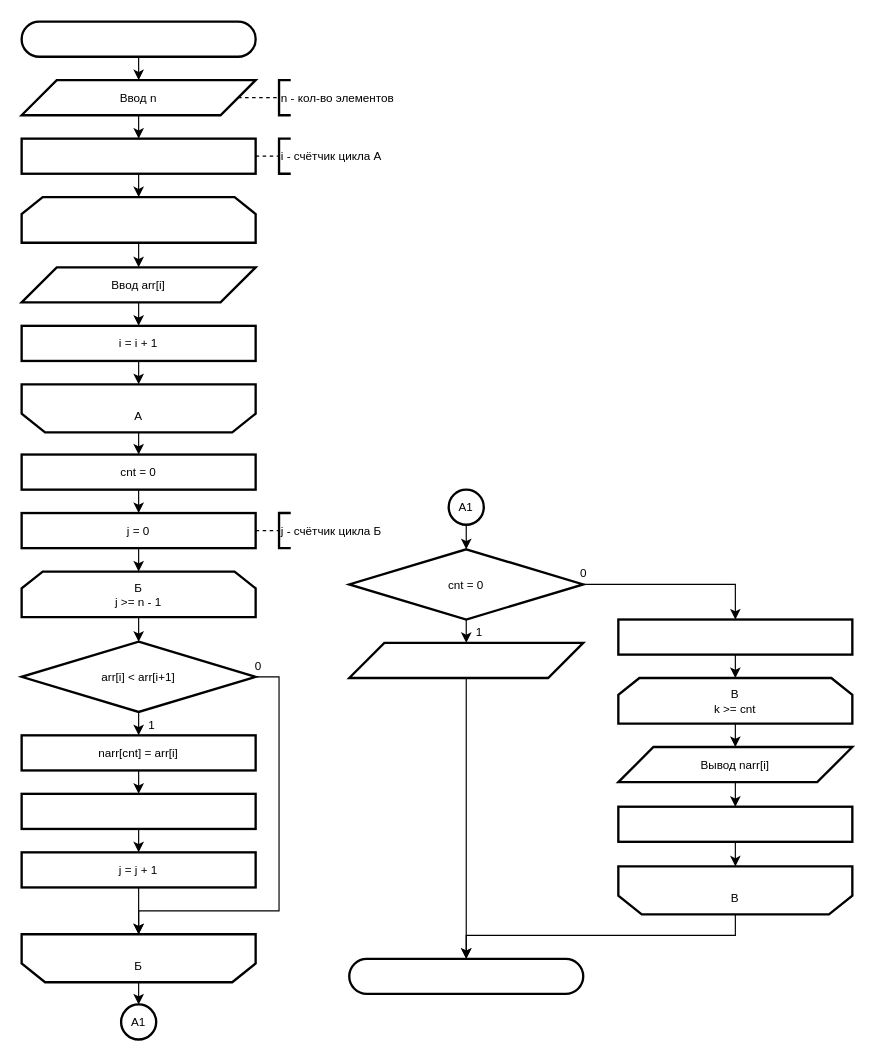
This 873x1060 diagram has some shape labels left out. Each missing label, with the centre of its shape:
"cnt = cnt + 1" goes at [138,811].
"i = 0" goes at [138,155].
"k = 0" goes at [735,636].
"k = k + 1" goes at [735,823].
"А i >= n" goes at [138,219].
"Вывод NO" goes at [465,660].
"Конец" goes at [465,975].
"Начало" goes at [138,38].
